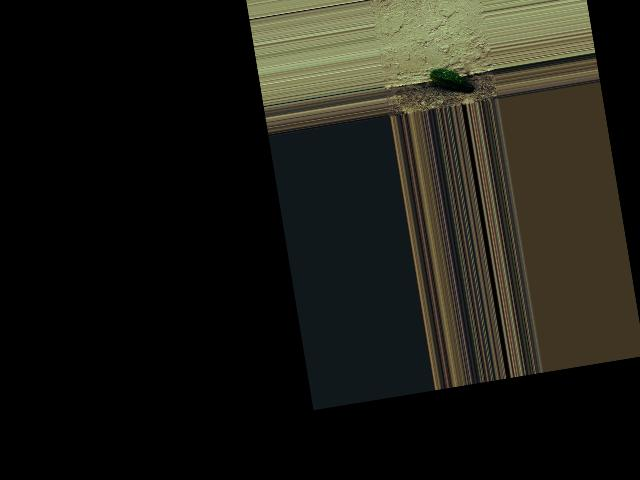cucumber: (428, 63, 473, 97)
